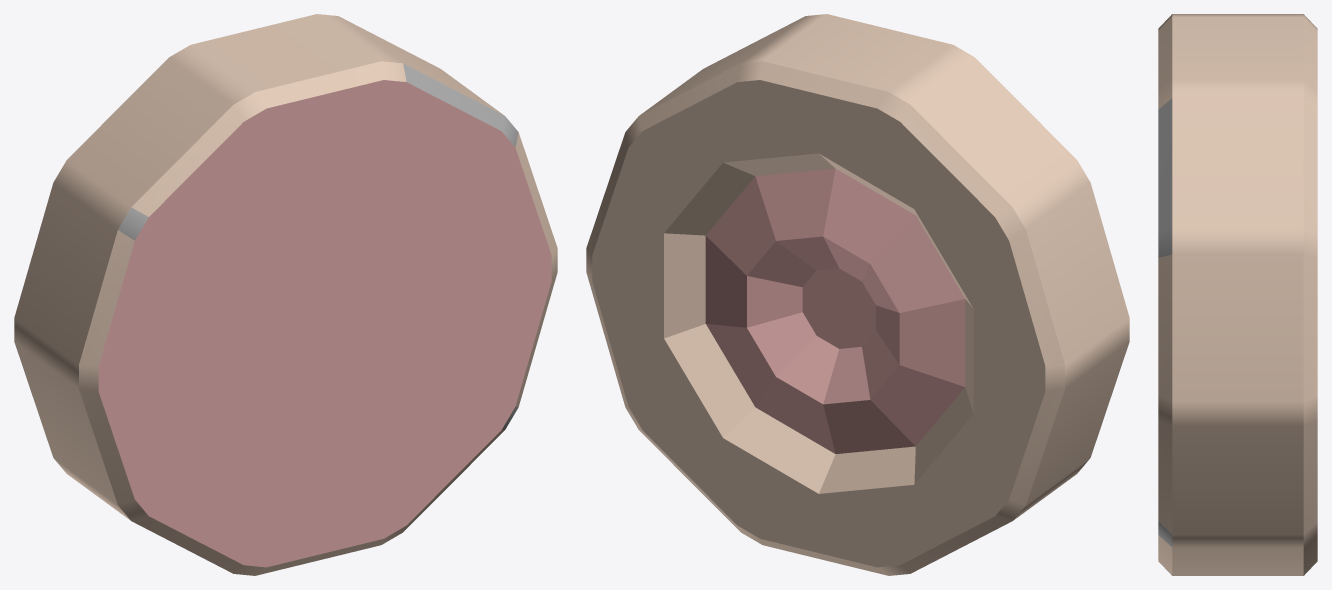
Rendered from WheelTextured.fbx.
The picture shows the model from 3 angles, left to right: view 1: azimuth 30°, elevation 25°; view 2: azimuth 150°, elevation 25°; view 3: azimuth 270°, elevation 25°; orthographic projection.
Parts seen in each view (by area): view 1: pCylinder3; view 2: pCylinder3; view 3: pCylinder3.
Boxes of the visible parts, <box> form: pCylinder3: <box>14,14,557,575</box>; pCylinder3: <box>586,14,1129,575</box>; pCylinder3: <box>1158,14,1317,575</box>.
Size of the model in its own units: 1.19 by 1.15 by 0.3368.
